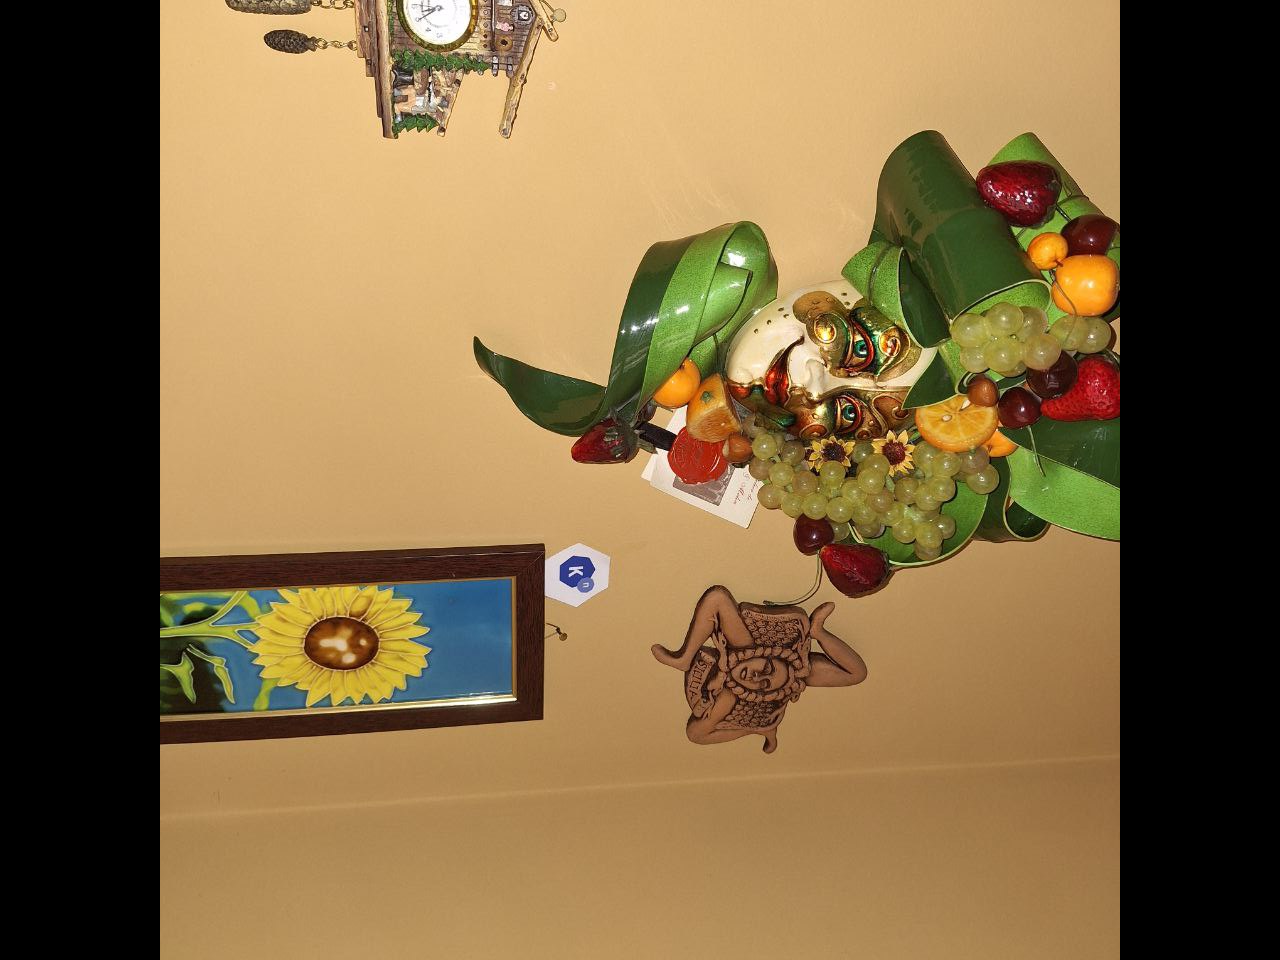knative: (557, 556, 595, 593)
